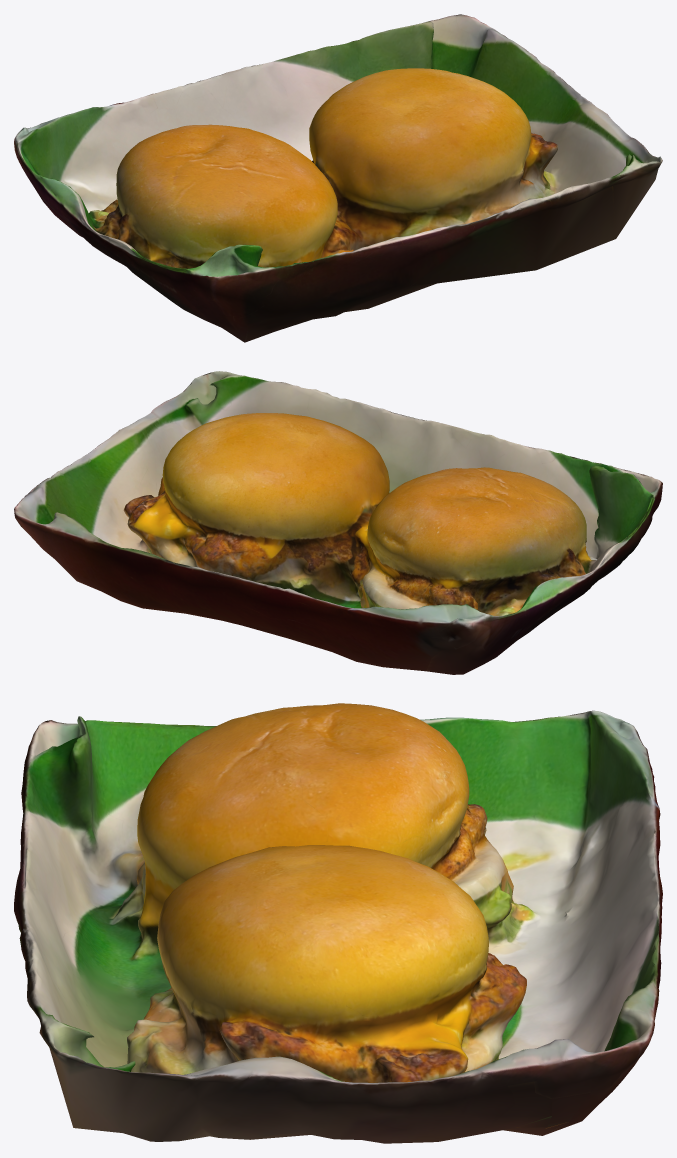
The model's file is 17-grilled chicken burger_1756916864182.glb.
3 renders of one model, top to bottom at view 1: azimuth 30°, elevation 25°; view 2: azimuth 150°, elevation 25°; view 3: azimuth 270°, elevation 25°, orthographic. The views are drawn at different scales.
Visible parts, largest first — view 1: 3D_Model; view 2: 3D_Model; view 3: 3D_Model.
Part boxes in pixels (bbox=[...]): 3D_Model: bbox=[14, 14, 662, 342]; 3D_Model: bbox=[14, 371, 662, 674]; 3D_Model: bbox=[14, 703, 662, 1143].
Bounding box in the file's own units: 27.88 × 7.86 × 20.9.
Materials: 1 (1 with a texture image).
